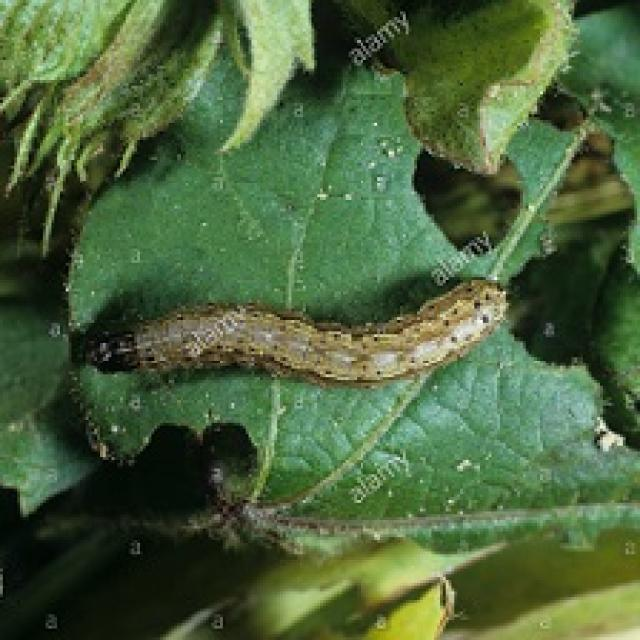worm: (84, 275, 512, 387)
